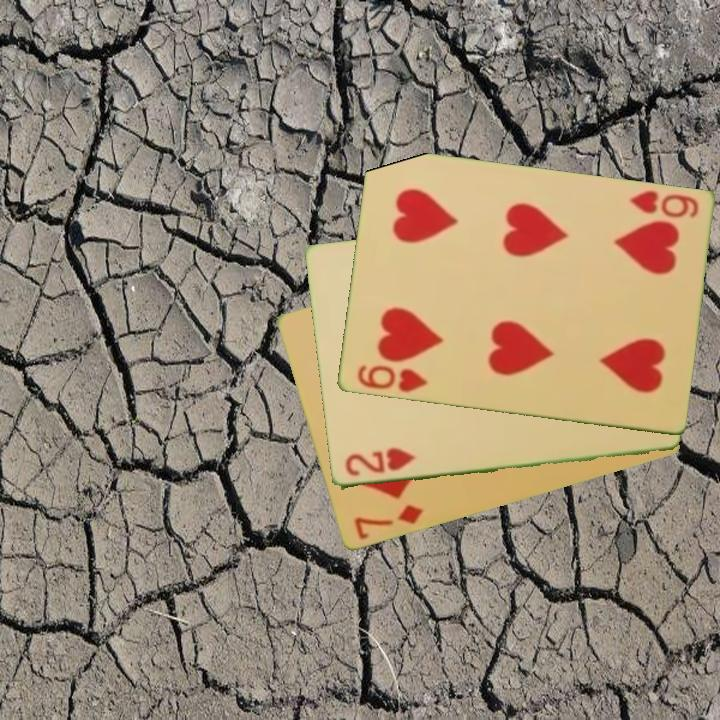2h: (341, 445, 418, 480)
6h: (353, 362, 430, 396), (626, 187, 701, 221)
7d: (350, 501, 426, 544)
